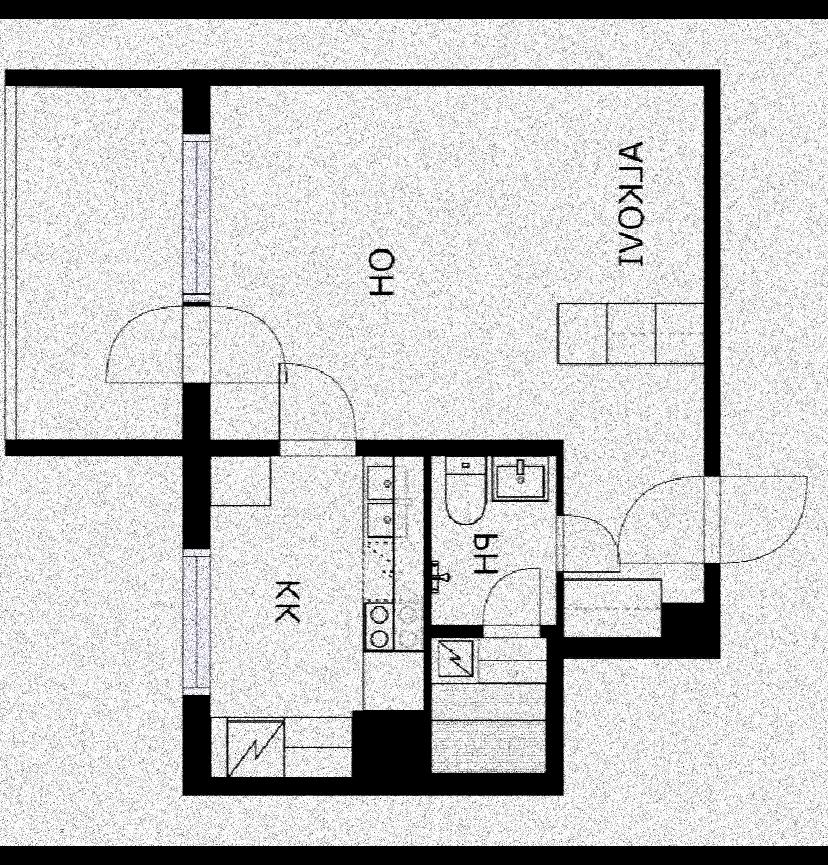door: (617, 454, 810, 568), (102, 298, 290, 386), (276, 360, 360, 460), (480, 566, 548, 640), (552, 510, 618, 574)
window: (178, 132, 208, 302), (182, 550, 207, 693)
zone: (211, 86, 706, 638), (210, 452, 425, 780), (16, 90, 178, 440), (427, 452, 558, 633), (432, 636, 550, 772)
